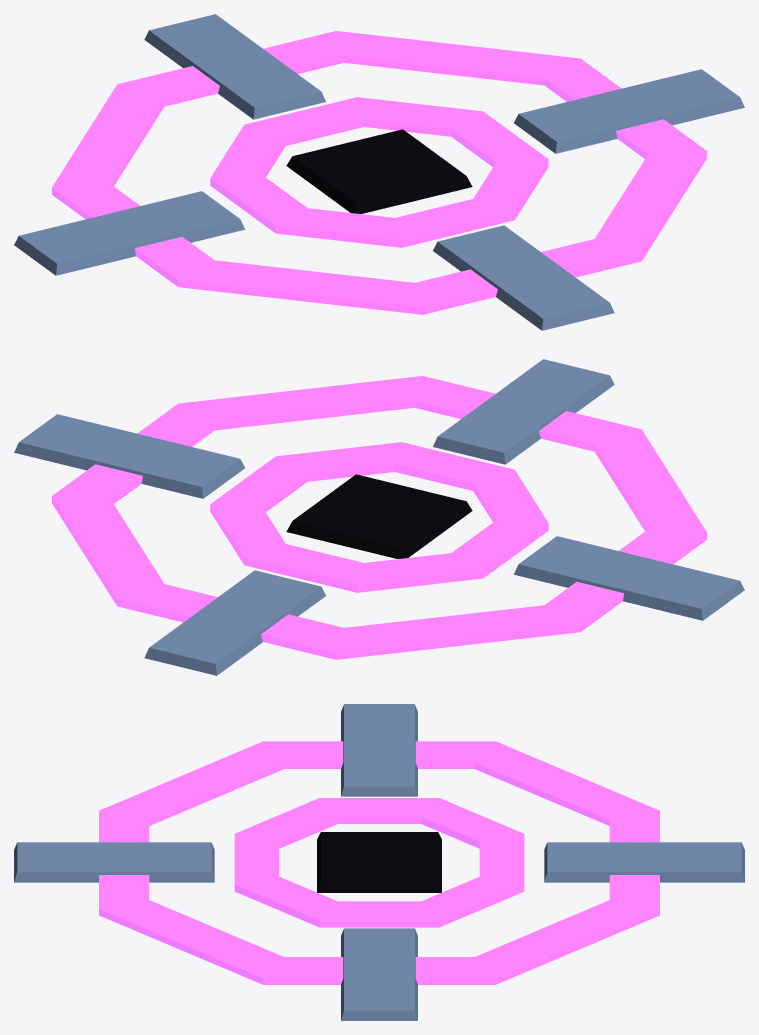
The model's file is SM_ArenaTile_Overlay_04_MagneticStorm.glb.
3 views of the same model, one above another, from view 1: azimuth 30°, elevation 25°; view 2: azimuth 150°, elevation 25°; view 3: azimuth 270°, elevation 25° (orthographic). The views are drawn at different scales.
Visible parts, largest first — view 1: Part_EMI_Magnetic, Part_MAT_LightTrim, Part_MAT_DarkNeutral; view 2: Part_EMI_Magnetic, Part_MAT_LightTrim, Part_MAT_DarkNeutral; view 3: Part_EMI_Magnetic, Part_MAT_LightTrim, Part_MAT_DarkNeutral.
Boxes of the visible parts, bbox=[...] form: Part_EMI_Magnetic: bbox=[52, 31, 706, 314]; Part_MAT_LightTrim: bbox=[14, 14, 744, 330]; Part_MAT_DarkNeutral: bbox=[286, 129, 472, 213]; Part_EMI_Magnetic: bbox=[52, 376, 706, 659]; Part_MAT_LightTrim: bbox=[14, 359, 744, 675]; Part_MAT_DarkNeutral: bbox=[286, 474, 472, 558]; Part_EMI_Magnetic: bbox=[99, 741, 659, 984]; Part_MAT_LightTrim: bbox=[14, 704, 744, 1020]; Part_MAT_DarkNeutral: bbox=[317, 832, 441, 892].
Size of the model in its own units: 9.1 by 0.13 by 9.1.
Materials: 3 (3 with a texture image).
